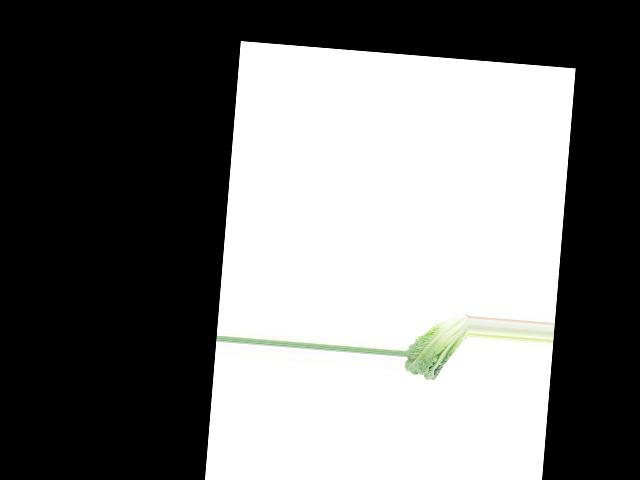lettuce: (404, 308, 469, 383)
